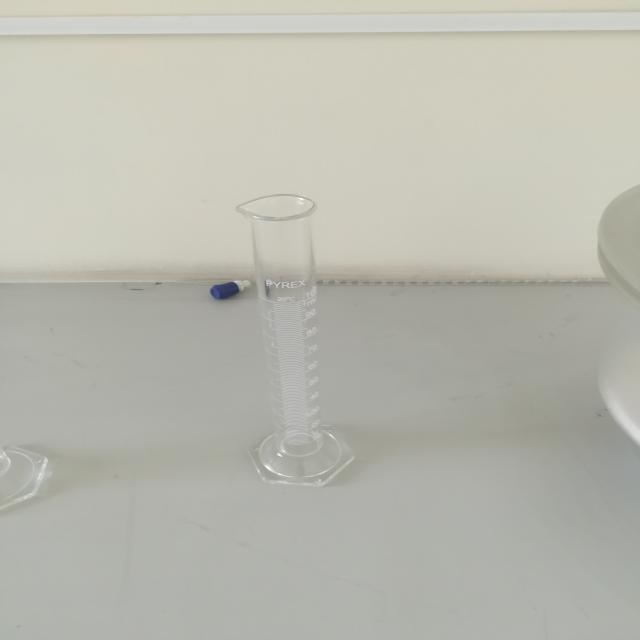Measuring_Cylinder: (205, 163, 376, 514)
